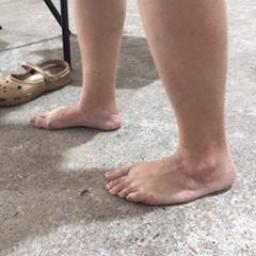Lateral View -Left Foot-: (100, 134, 241, 214)
